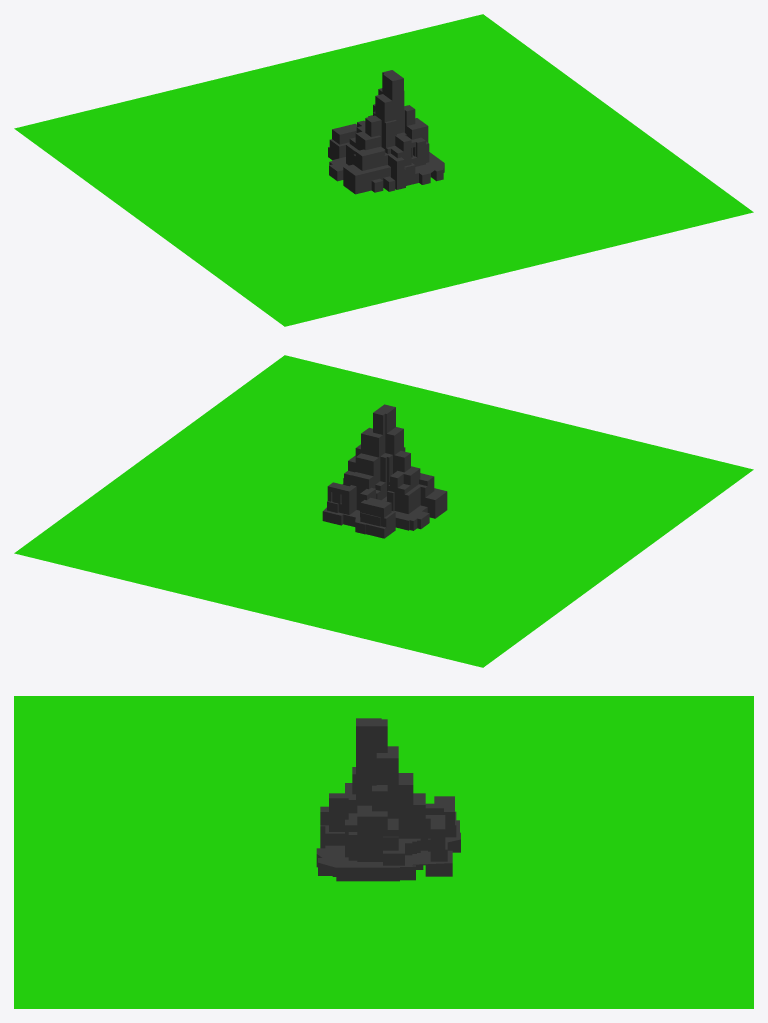
The model's file is FMP_CityScape.fbx.
3 views of the same model, one above another, from view 1: azimuth 30°, elevation 25°; view 2: azimuth 150°, elevation 25°; view 3: azimuth 270°, elevation 25° (orthographic). The views are drawn at different scales.
Visible parts, largest first — view 1: CityModel; view 2: CityModel; view 3: CityModel.
Boxes of the visible parts, bbox=[...] form: CityModel: bbox=[14, 14, 753, 326]; CityModel: bbox=[14, 355, 753, 667]; CityModel: bbox=[14, 696, 753, 1008].
Bounding box in the file's own units: 5000 × 5000 × 990.
